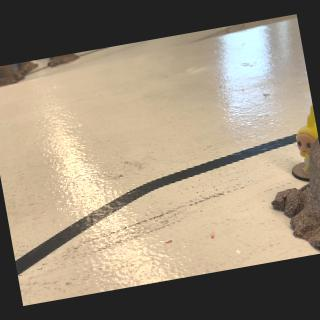teletubby: (296, 105, 318, 170)
